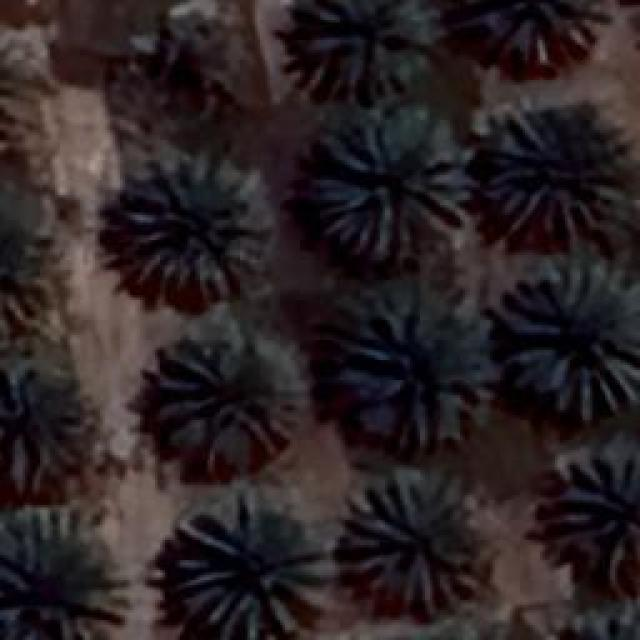PalmTree: (50, 127, 132, 570), (340, 288, 498, 448), (310, 110, 472, 262), (494, 252, 638, 418), (112, 155, 270, 300), (147, 330, 305, 468), (170, 500, 330, 635), (338, 470, 478, 615), (480, 110, 622, 240), (294, 0, 447, 102), (552, 445, 638, 570), (0, 370, 88, 492), (475, 0, 610, 62), (0, 29, 33, 147), (23, 129, 50, 270), (549, 605, 640, 640)
